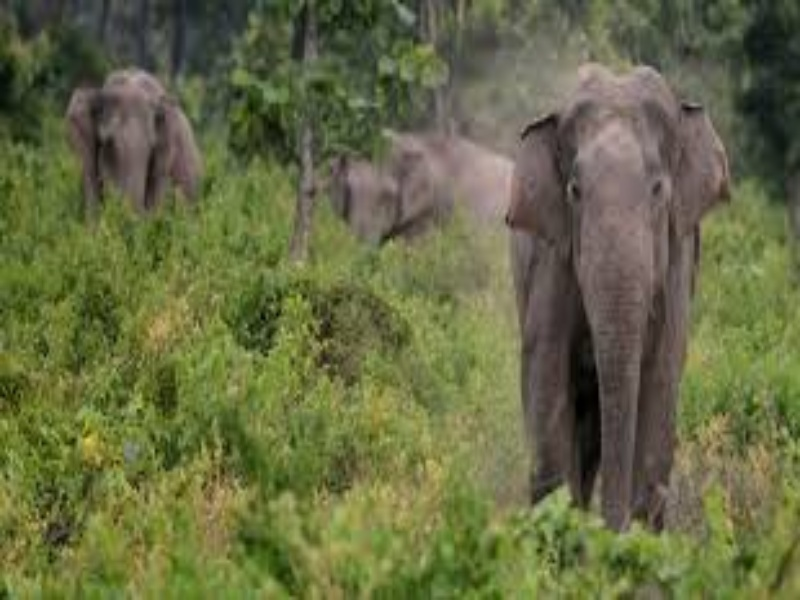elephant: (502, 66, 721, 532), (40, 66, 240, 239)
